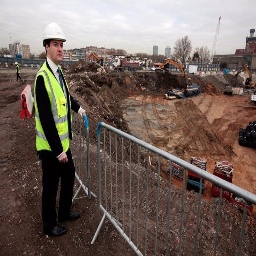helmet: (42, 23, 67, 45)
person: (31, 21, 77, 240)
vest: (33, 67, 75, 163)
